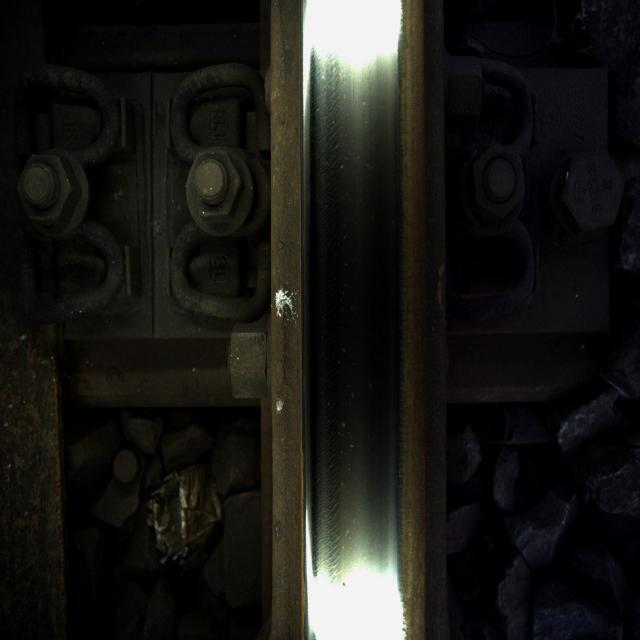break: (307, 43, 398, 605)
